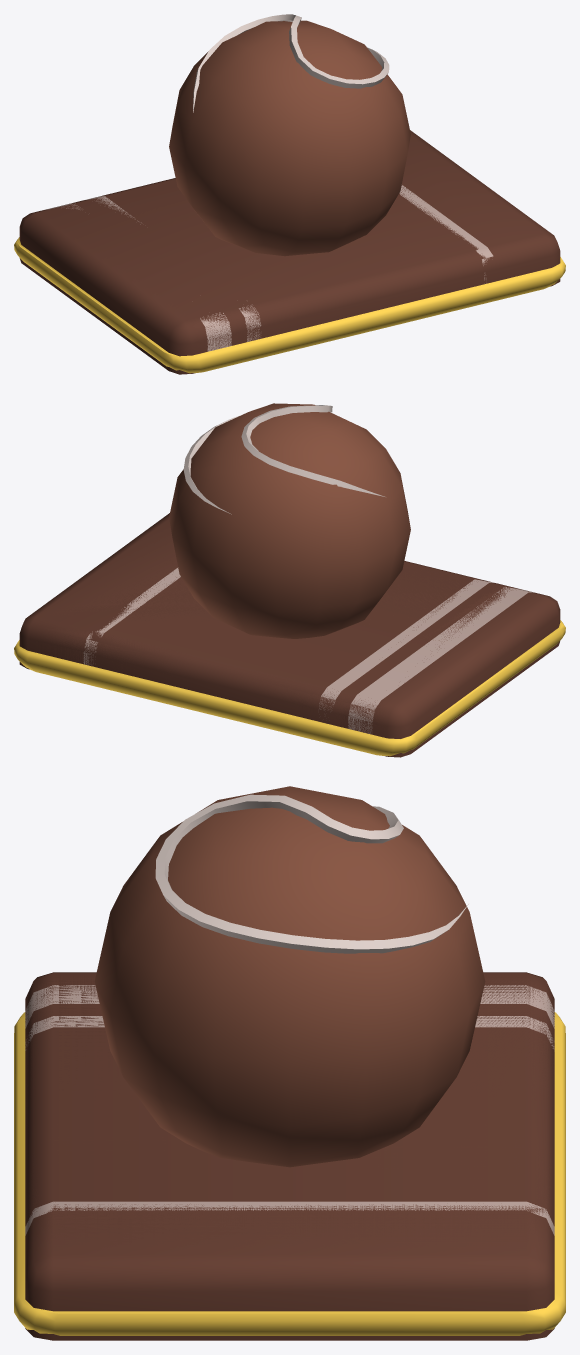
3 renders of one model, top to bottom at view 1: azimuth 30°, elevation 25°; view 2: azimuth 150°, elevation 25°; view 3: azimuth 270°, elevation 25°, orthographic. The views are drawn at different scales.
Parts seen in each view (by area): view 1: chocolate_2_2, chocolate_2_1; view 2: chocolate_2_2, chocolate_2_1; view 3: chocolate_2_2, chocolate_2_1.
Boxes of the visible parts, <box> form: chocolate_2_2: <box>14,14,565,374</box>; chocolate_2_1: <box>36,145,551,373</box>; chocolate_2_2: <box>14,403,565,757</box>; chocolate_2_1: <box>28,521,545,737</box>; chocolate_2_2: <box>14,786,565,1340</box>; chocolate_2_1: <box>25,973,554,1278</box>.
Bounding box in the file's own units: 72.95 × 42.74 × 54.53.
